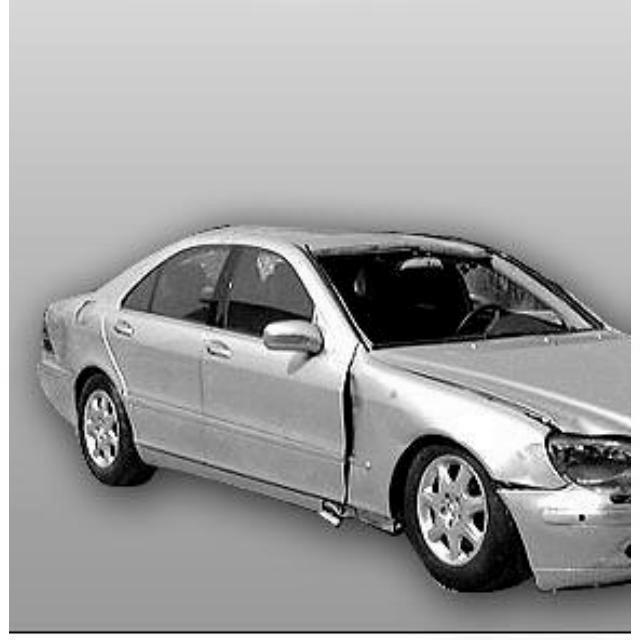Headlight-damage: (535, 427, 630, 496)
fender-dent: (346, 392, 534, 495)
roof-dent: (228, 221, 502, 259)
